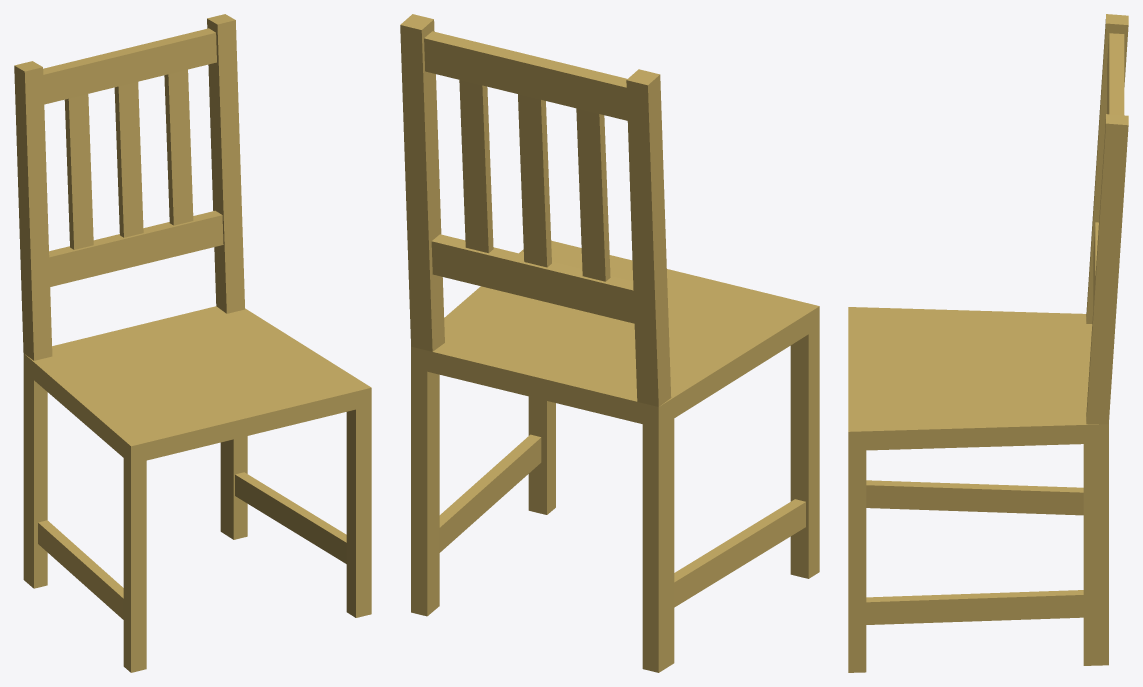
File: SM_Chair.fbx
3 renders of one model, left to right at view 1: azimuth 30°, elevation 25°; view 2: azimuth 150°, elevation 25°; view 3: azimuth 270°, elevation 25°, orthographic. The views are drawn at different scales.
Parts seen in each view (by area): view 1: SM_Chair; view 2: SM_Chair; view 3: SM_Chair.
Part boxes in pixels (x1,y1,x2,y2): SM_Chair: [14, 14, 371, 672]; SM_Chair: [400, 14, 819, 672]; SM_Chair: [848, 14, 1128, 672].
Bounding box in the file's own units: 42 × 84.91 × 39.8.
